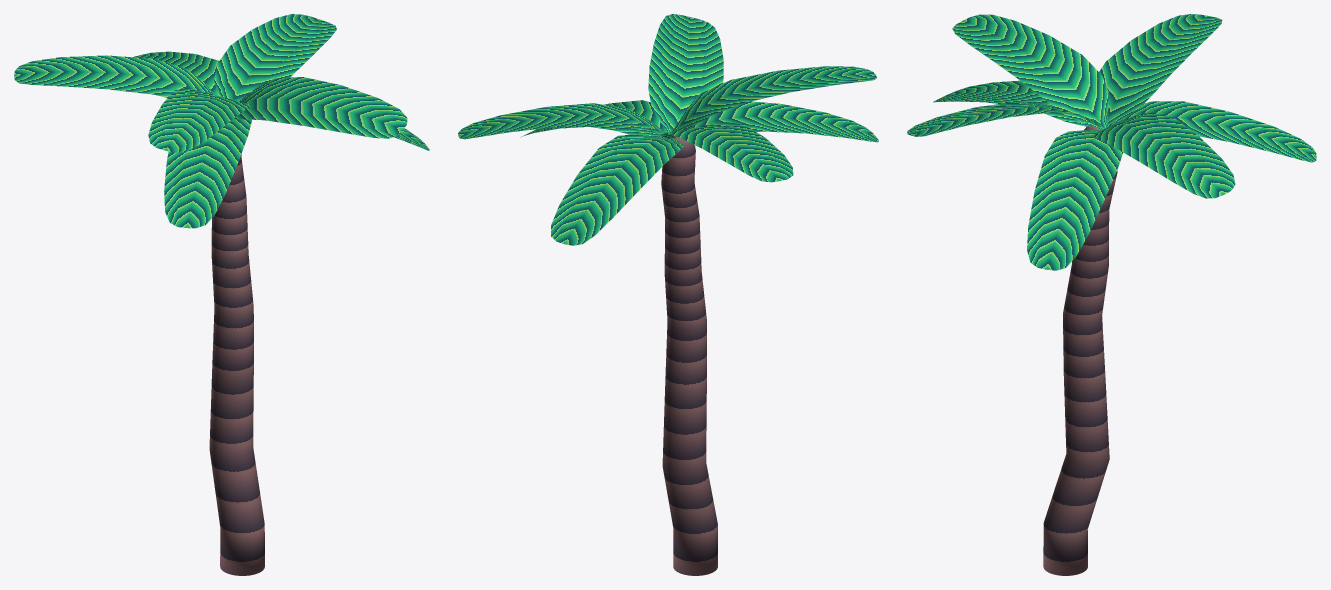
The model's file is Palme.glb.
The picture shows the model from 3 angles, left to right: view 1: azimuth 30°, elevation 25°; view 2: azimuth 150°, elevation 25°; view 3: azimuth 270°, elevation 25°; orthographic projection.
Visible parts, largest first — view 1: Plane.003; view 2: Plane.003; view 3: Plane.003.
Part boxes in pixels (x1,y1,x2,y2): Plane.003: (14,14,429,575); Plane.003: (458,14,878,575); Plane.003: (907,14,1316,575).
Bounding box in the file's own units: 4.78 × 6.64 × 5.04.
Materials: 1 (1 with a texture image).
